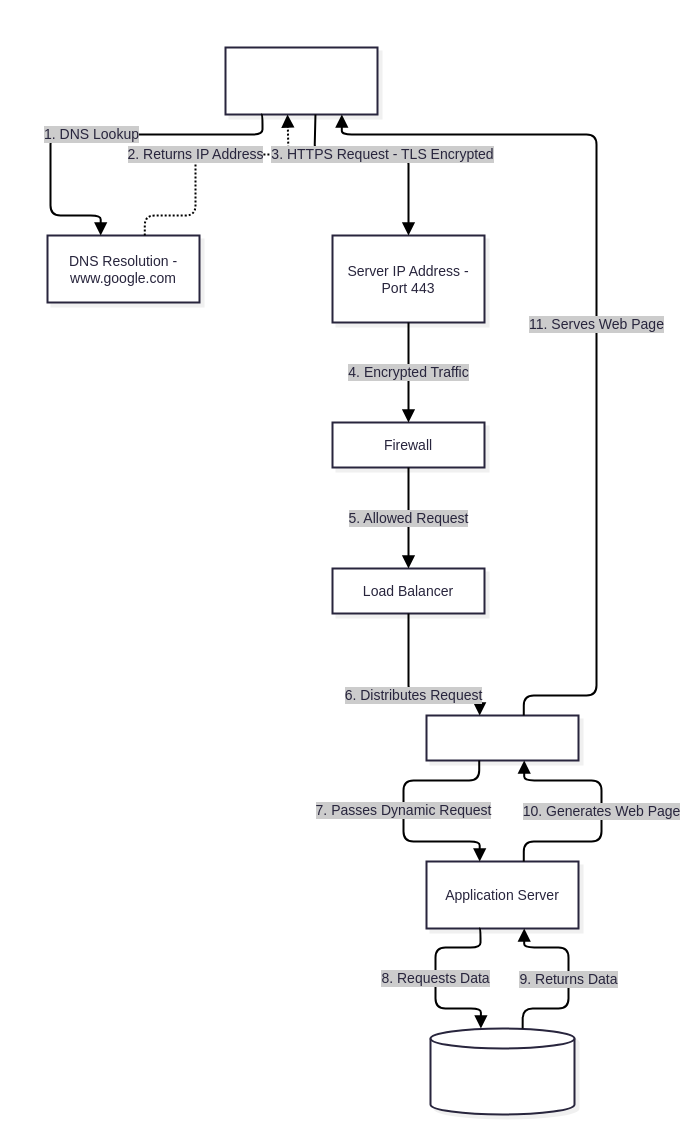
The diagram is 697 pixels wide and 1136 high, and some of its shapes have lost their labels. The centre of each missing label's shape, as x and y in pixels:
"Database" belongs at [504,1073].
"User / Web Browser" belongs at [303,82].
"Web Server" belongs at [504,739].
